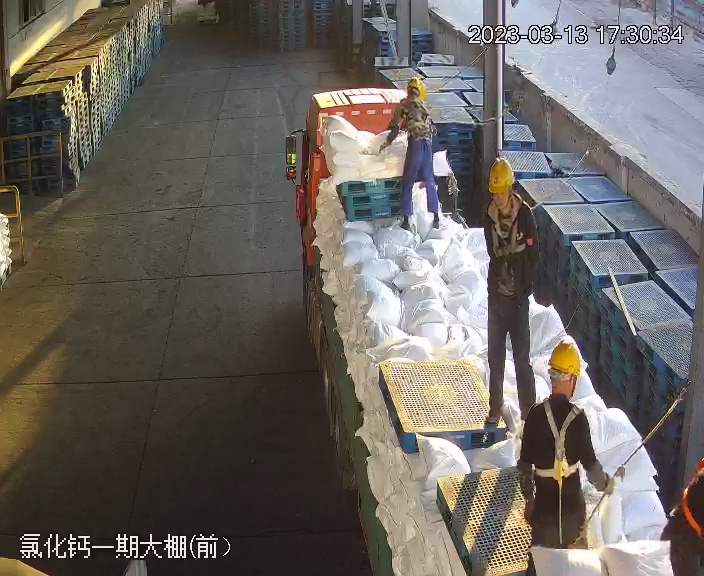belt: (524, 395, 592, 474), (487, 196, 533, 257), (675, 468, 704, 541), (403, 97, 438, 133)
head: (518, 340, 601, 440), (478, 158, 539, 228), (391, 77, 434, 121)
helmet: (545, 339, 584, 376), (486, 158, 516, 194), (405, 76, 426, 98)
people: (517, 339, 615, 559), (475, 153, 545, 442), (381, 76, 446, 230)
truck: (286, 83, 687, 571)
